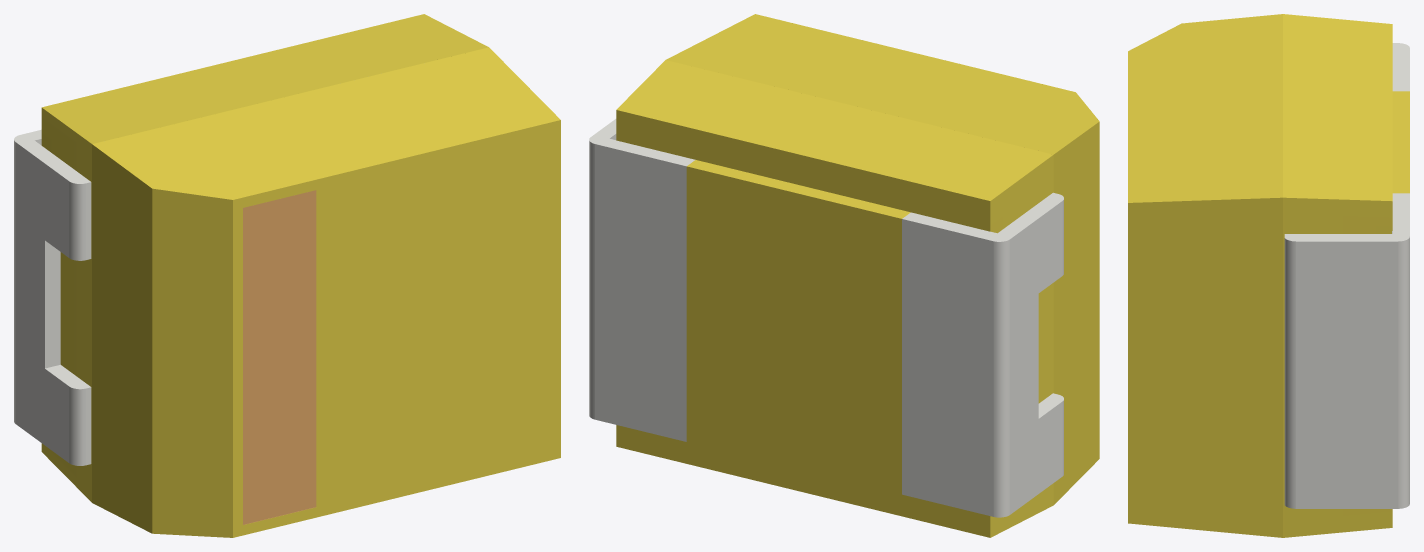
The model's file is CP_EIA-3528-21_Kemet-B.glb.
3 renders of one model, left to right at view 1: azimuth 30°, elevation 25°; view 2: azimuth 150°, elevation 25°; view 3: azimuth 270°, elevation 25°, orthographic. The views are drawn at different scales.
Visible parts, largest first — view 1: Shape_IndexedFaceSet.028, Shape_IndexedFaceSet.027, Shape_IndexedFaceSet.040, Shape_IndexedFaceSet.048, Shape_IndexedFaceSet.029, Shape_IndexedFaceSet.017, Shape_IndexedFaceSet.036, Shape_IndexedFaceSet.018, Shape_IndexedFaceSet.046, Shape_IndexedFaceSet.035, Shape_IndexedFaceSet.038, Shape_IndexedFaceSet.019; view 2: Shape_IndexedFaceSet.022, Shape_IndexedFaceSet.032, Shape_IndexedFaceSet.003, Shape_IndexedFaceSet.027, Shape_IndexedFaceSet.017, Shape_IndexedFaceSet.029, Shape_IndexedFaceSet.010, Shape_IndexedFaceSet.036, Shape_IndexedFaceSet.014, Shape_IndexedFaceSet.018, Shape_IndexedFaceSet.031, Shape_IndexedFaceSet.012 (+5 smaller); view 3: Shape_IndexedFaceSet.016, Shape_IndexedFaceSet.002, Shape_IndexedFaceSet.027, Shape_IndexedFaceSet.017, Shape_IndexedFaceSet.009, Shape_IndexedFaceSet, Shape_IndexedFaceSet.005, Shape_IndexedFaceSet.001, Shape_IndexedFaceSet.021, Shape_IndexedFaceSet.019.
Boxes of the visible parts, box(x1,y1,x2,y2) form: Shape_IndexedFaceSet.028: box(233, 120, 560, 537); Shape_IndexedFaceSet.027: box(92, 47, 560, 199); Shape_IndexedFaceSet.040: box(152, 188, 232, 537); Shape_IndexedFaceSet.048: box(243, 190, 316, 524); Shape_IndexedFaceSet.029: box(92, 144, 152, 533); Shape_IndexedFaceSet.017: box(42, 14, 488, 143); Shape_IndexedFaceSet.036: box(15, 142, 69, 462); Shape_IndexedFaceSet.018: box(41, 108, 91, 502); Shape_IndexedFaceSet.046: box(45, 240, 60, 368); Shape_IndexedFaceSet.035: box(69, 181, 85, 260); Shape_IndexedFaceSet.038: box(69, 387, 85, 465); Shape_IndexedFaceSet.019: box(14, 129, 90, 183); Shape_IndexedFaceSet.022: box(696, 168, 892, 492); Shape_IndexedFaceSet.032: box(902, 219, 993, 516); Shape_IndexedFaceSet.003: box(595, 144, 686, 441); Shape_IndexedFaceSet.027: box(666, 14, 1099, 154); Shape_IndexedFaceSet.017: box(616, 60, 1053, 200); Shape_IndexedFaceSet.029: box(1053, 122, 1099, 504); Shape_IndexedFaceSet.010: box(616, 110, 990, 231); Shape_IndexedFaceSet.036: box(1010, 201, 1062, 514); Shape_IndexedFaceSet.014: box(616, 425, 990, 537); Shape_IndexedFaceSet.018: box(990, 155, 1053, 537); Shape_IndexedFaceSet.031: box(993, 239, 1009, 517); Shape_IndexedFaceSet.012: box(686, 166, 695, 444); Shape_IndexedFaceSet.016: box(1128, 197, 1282, 537); Shape_IndexedFaceSet.002: box(1296, 241, 1398, 508); Shape_IndexedFaceSet.027: box(1128, 14, 1282, 202); Shape_IndexedFaceSet.017: box(1283, 14, 1392, 201); Shape_IndexedFaceSet.009: box(1283, 197, 1392, 537); Shape_IndexedFaceSet: box(1398, 237, 1409, 508); Shape_IndexedFaceSet.005: box(1284, 238, 1295, 508); Shape_IndexedFaceSet.001: box(1284, 193, 1409, 241); Shape_IndexedFaceSet.021: box(1392, 95, 1409, 188); Shape_IndexedFaceSet.019: box(1392, 43, 1409, 91).
Size of the model in its own units: 1.38 by 1.1 by 0.827.
